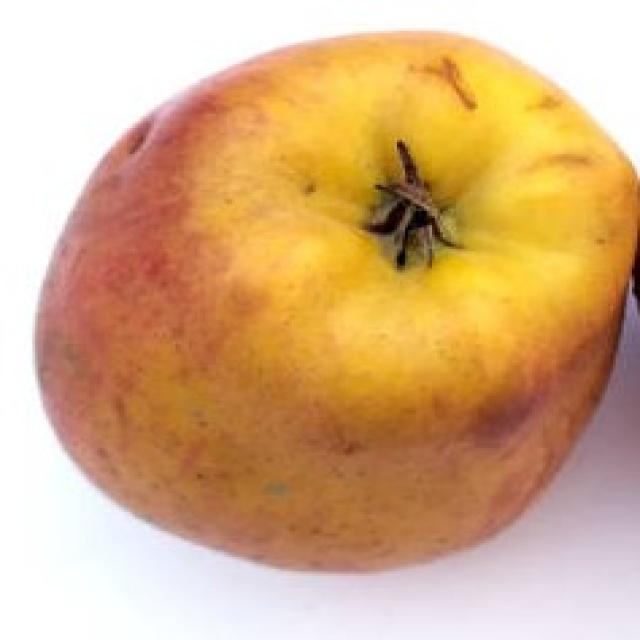overripe: (27, 24, 640, 580)
